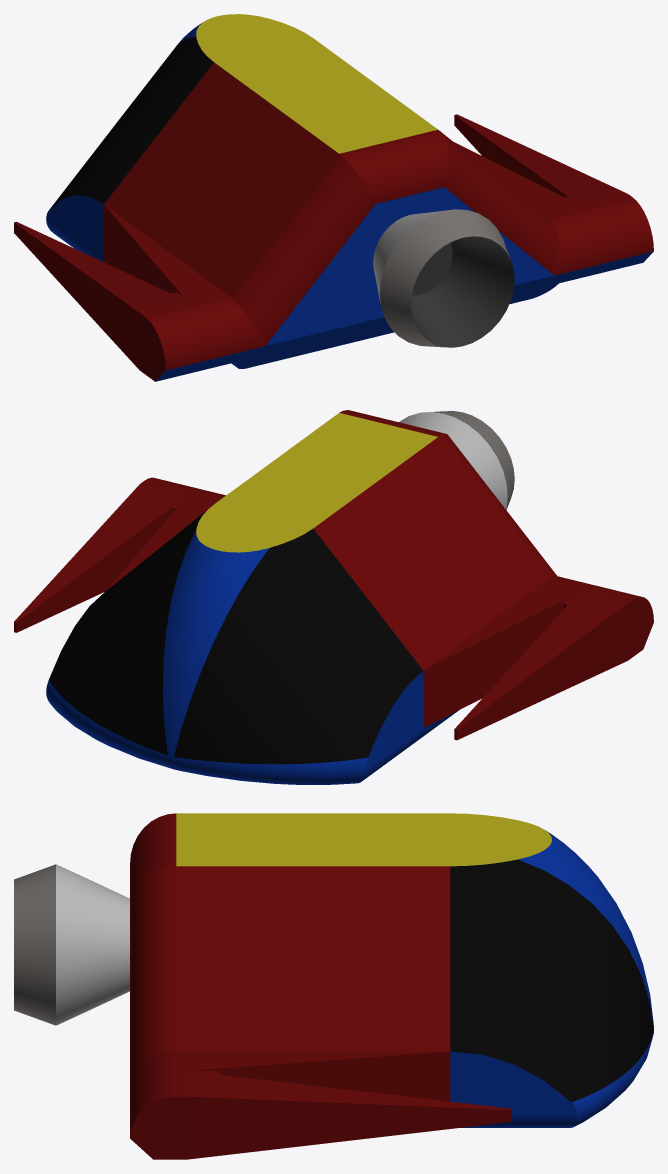
File: ship_2 v1.fbx
3 views of the same model, one above another, from view 1: azimuth 30°, elevation 25°; view 2: azimuth 150°, elevation 25°; view 3: azimuth 270°, elevation 25° (orthographic). The views are drawn at different scales.
Visible parts, largest first — view 1: Body1; view 2: Body1; view 3: Body1.
Boxes of the visible parts, box(x1,y1,x2,y2) form: Body1: box(14, 14, 653, 381); Body1: box(14, 410, 653, 784); Body1: box(14, 813, 653, 1159).
Size of the model in its own units: 133 by 50 by 138.
